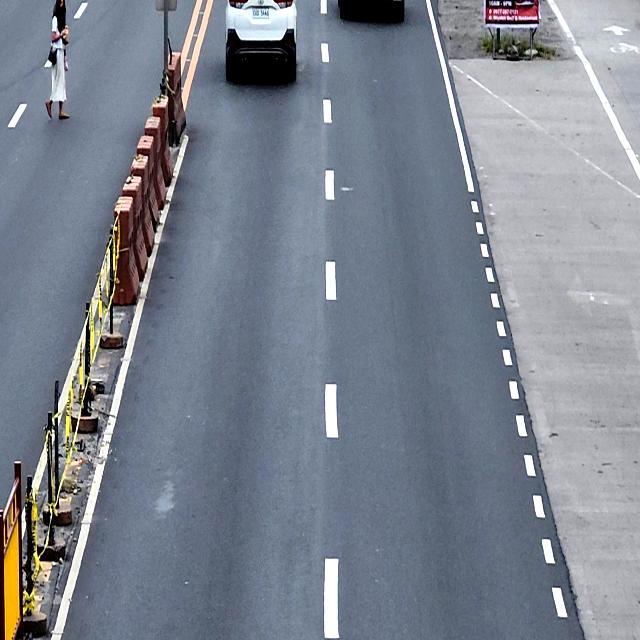Car: (225, 0, 297, 87)
License-Plate: (252, 7, 269, 19)
